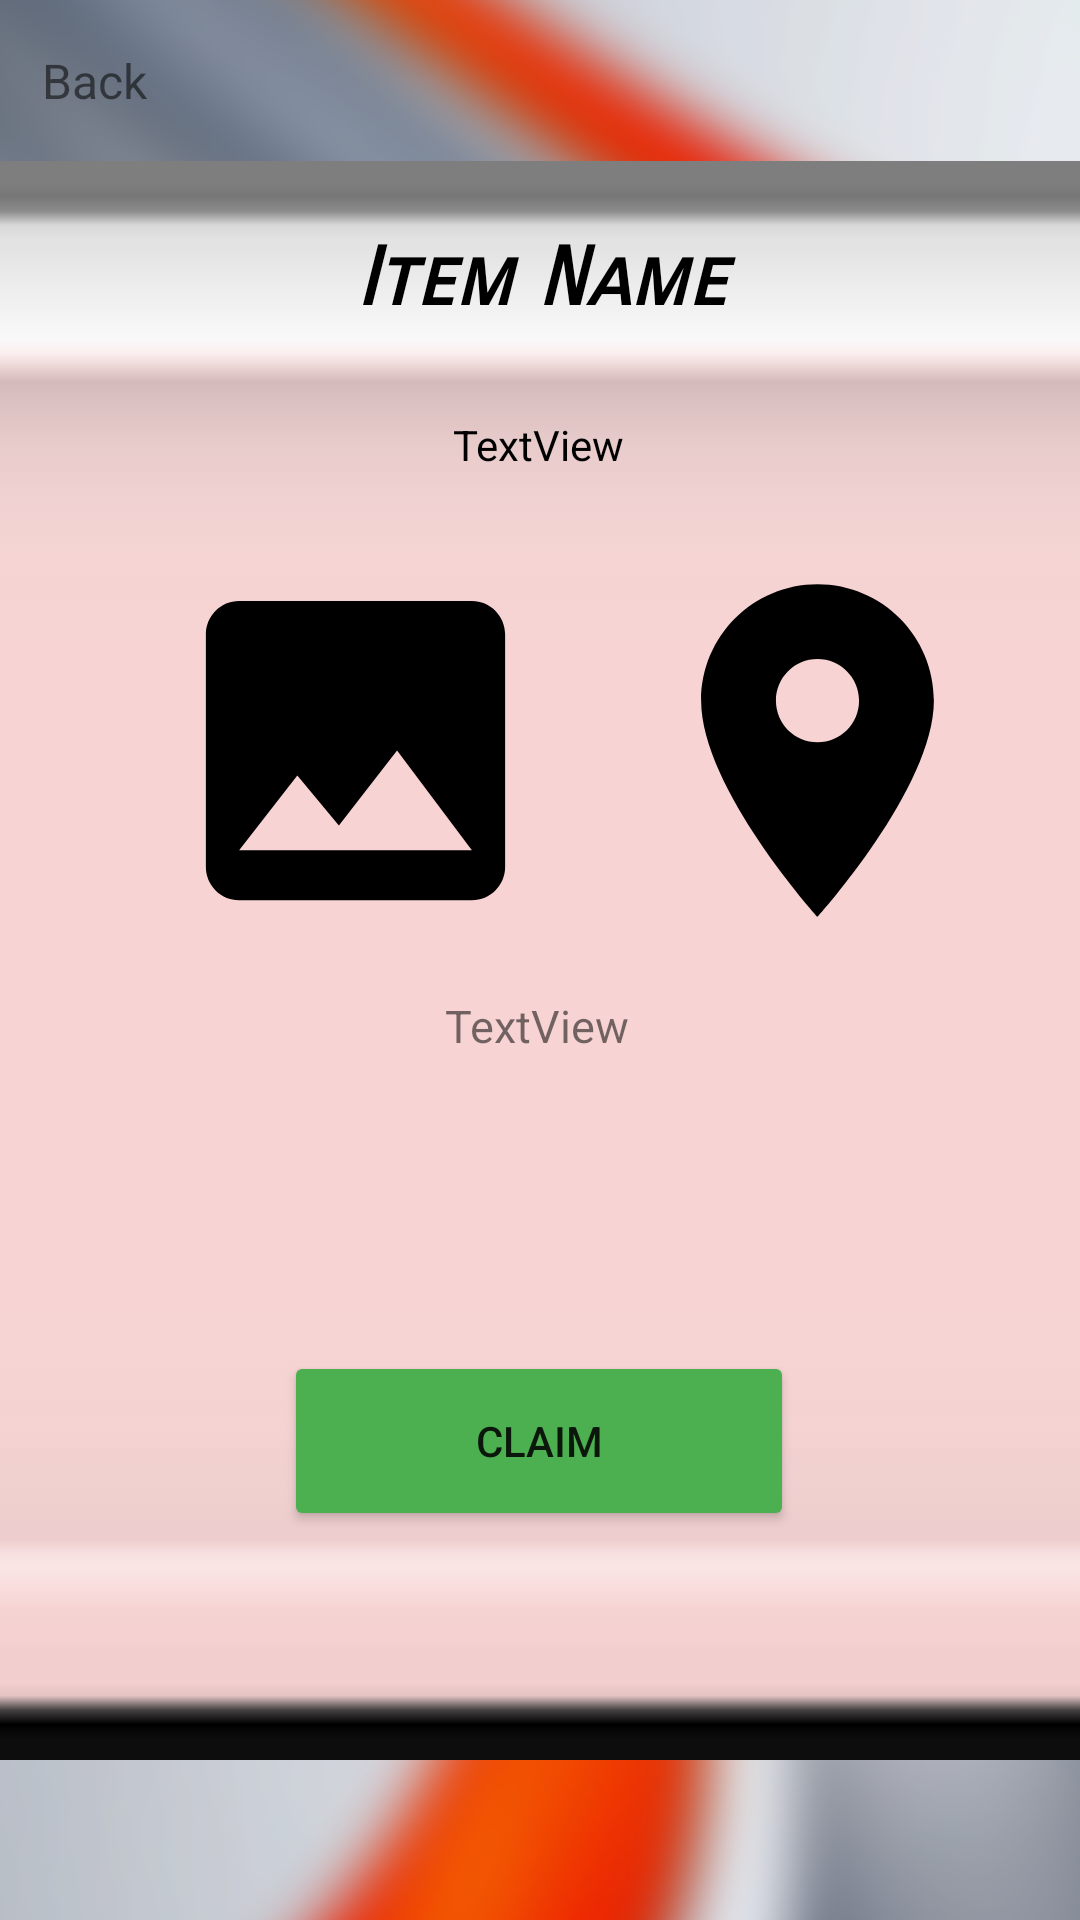

Where icons sit on this 1080px x 1920px app screen, as rect(x1, y1, x2, y2):
location on: rect(701, 584, 934, 917)
